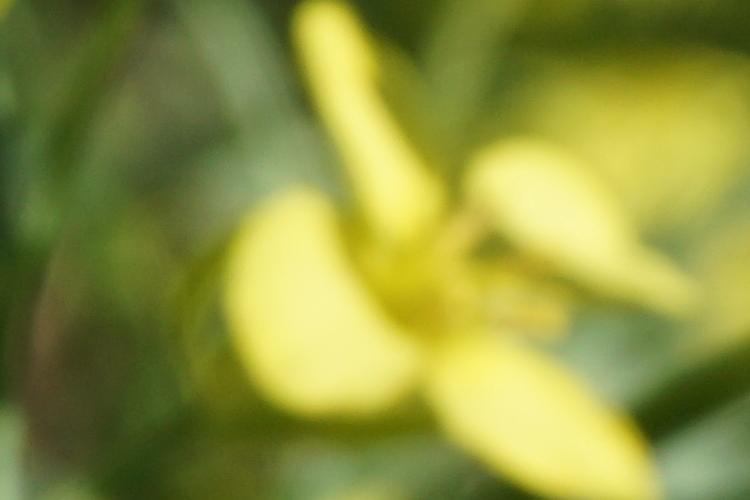yellow: (210, 53, 687, 489)
